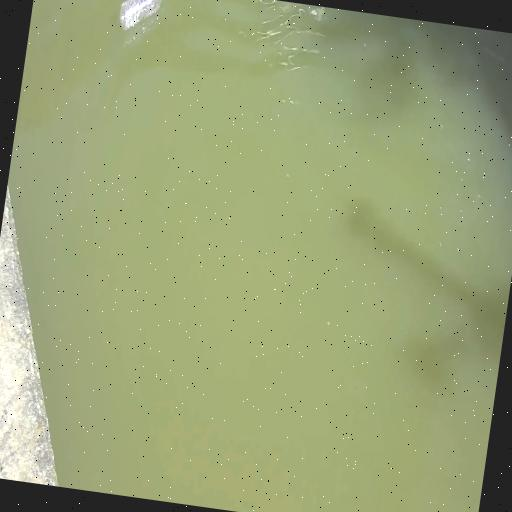plastic: (114, 0, 167, 38)
